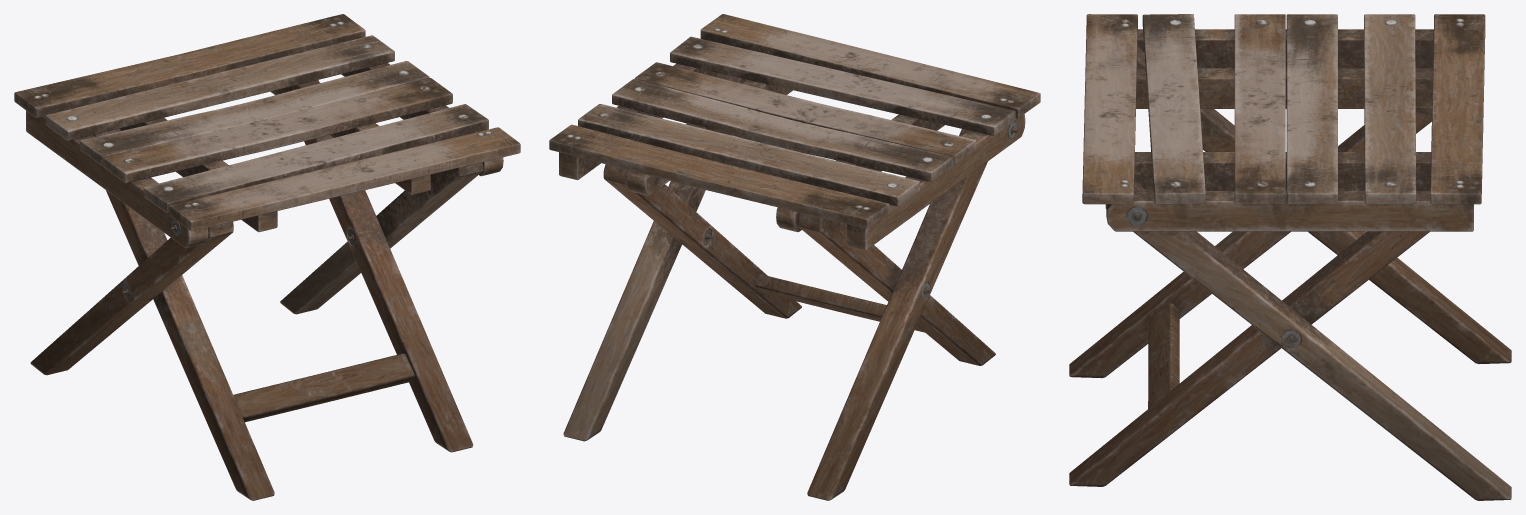
The model's file is folding_wooden_stool.glb.
3 renders of one model, left to right at view 1: azimuth 30°, elevation 25°; view 2: azimuth 150°, elevation 25°; view 3: azimuth 270°, elevation 25°, orthographic. The views are drawn at different scales.
Visible parts, largest first — view 1: folding_wooden_stool; view 2: folding_wooden_stool; view 3: folding_wooden_stool.
Boxes of the visible parts, x1=… form: folding_wooden_stool: x1=14, y1=14, x2=520, y2=500; folding_wooden_stool: x1=549, y1=14, x2=1040, y2=500; folding_wooden_stool: x1=1069, y1=14, x2=1511, y2=500.
Size of the model in its own units: 0.5278 by 0.442 by 0.5471.
Materials: 1 (1 with a texture image).
